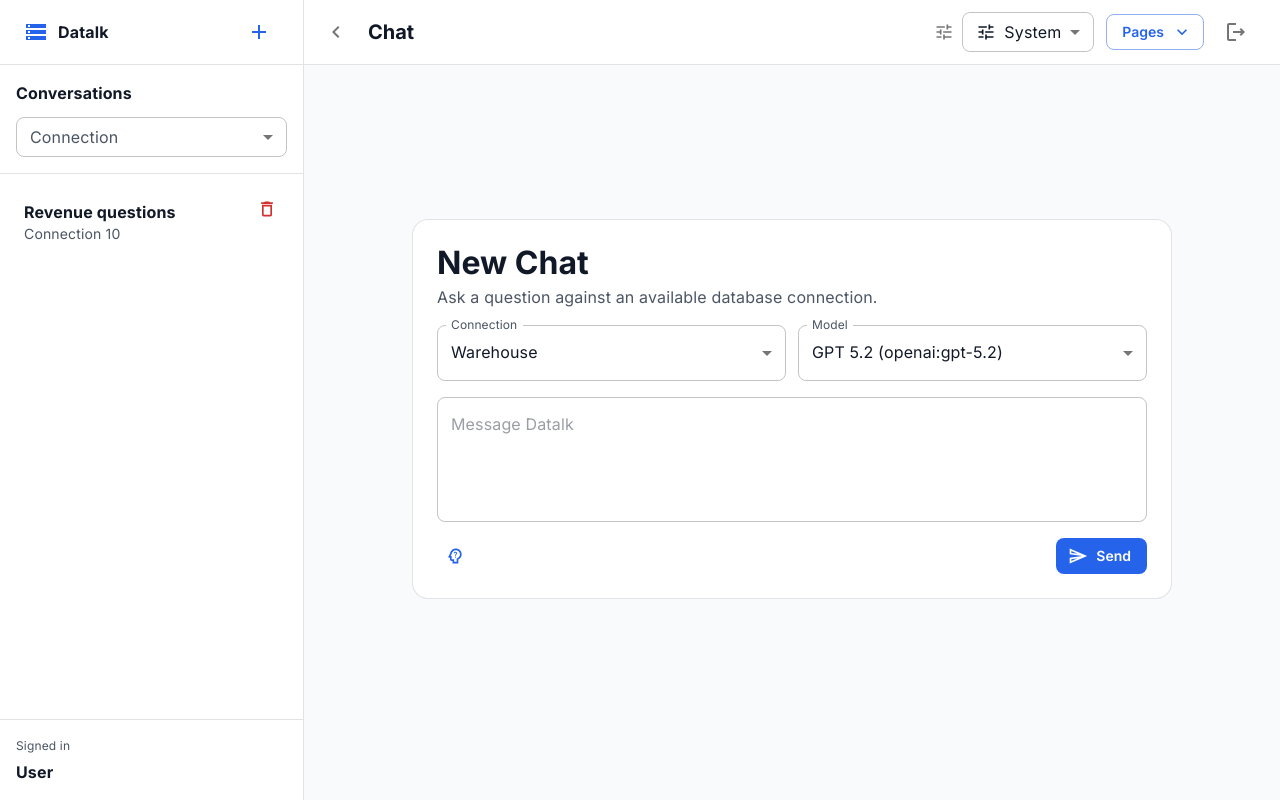
ChatPage › displays a natural response from the send response in chunks
Click the text "Revenue questions" at (100, 212), box [24,202,176,222]
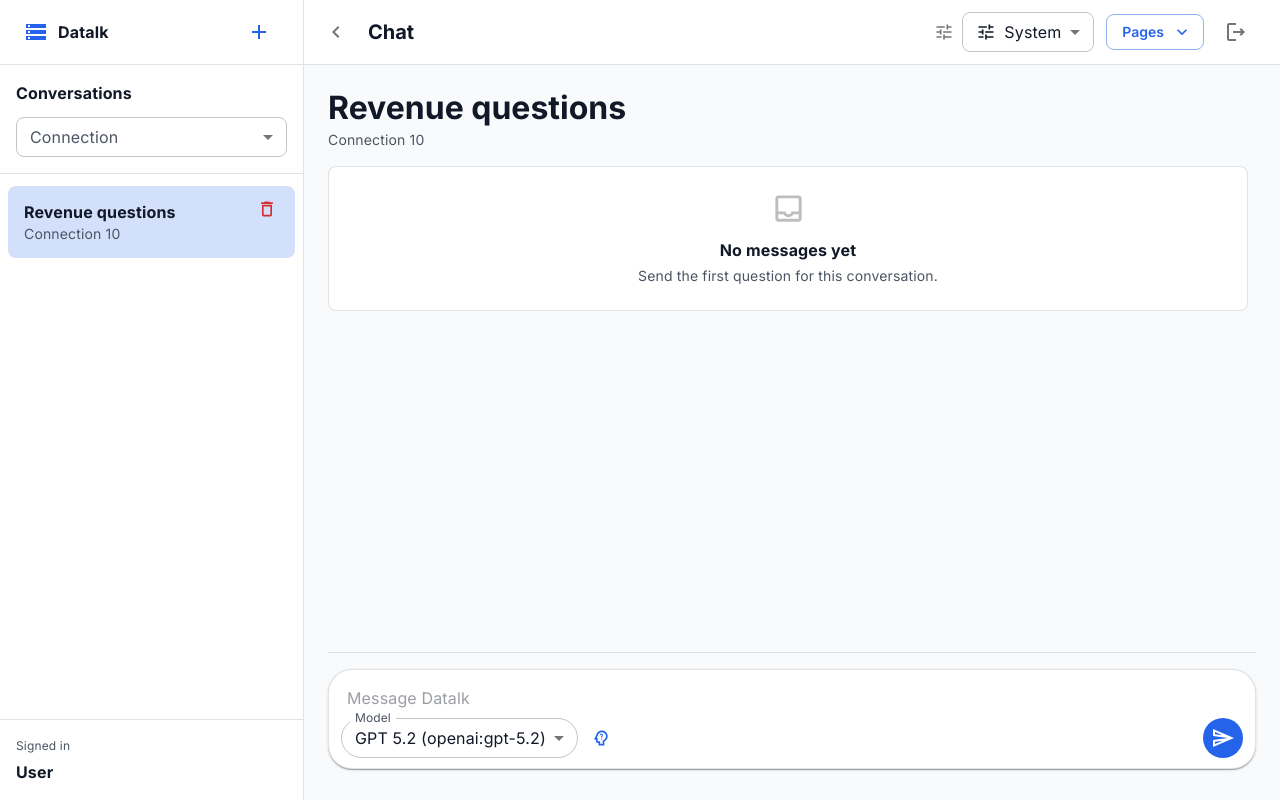
Type "How many users?" into the text box labelled "Message" at (792, 698), box [347,686,1237,710]
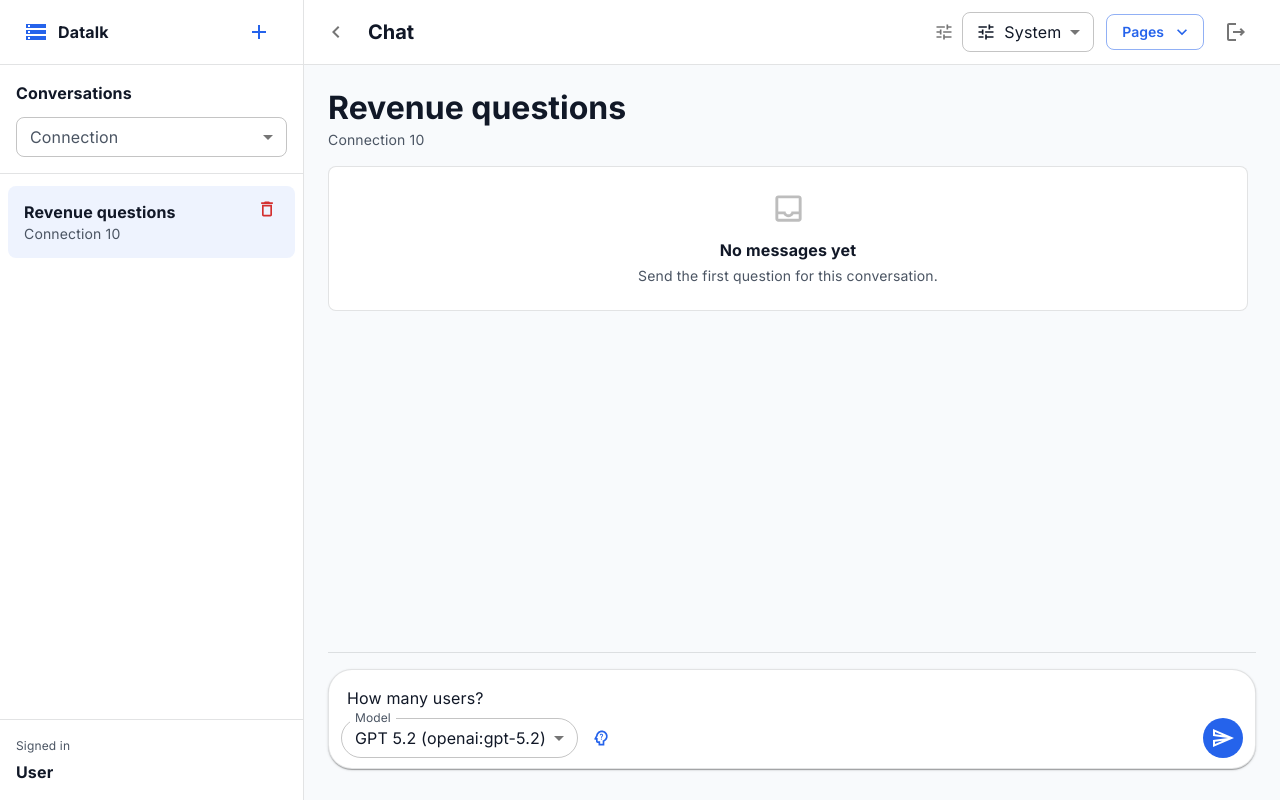
Click the button named "Send" at (1223, 738), box [1203,718,1243,758]
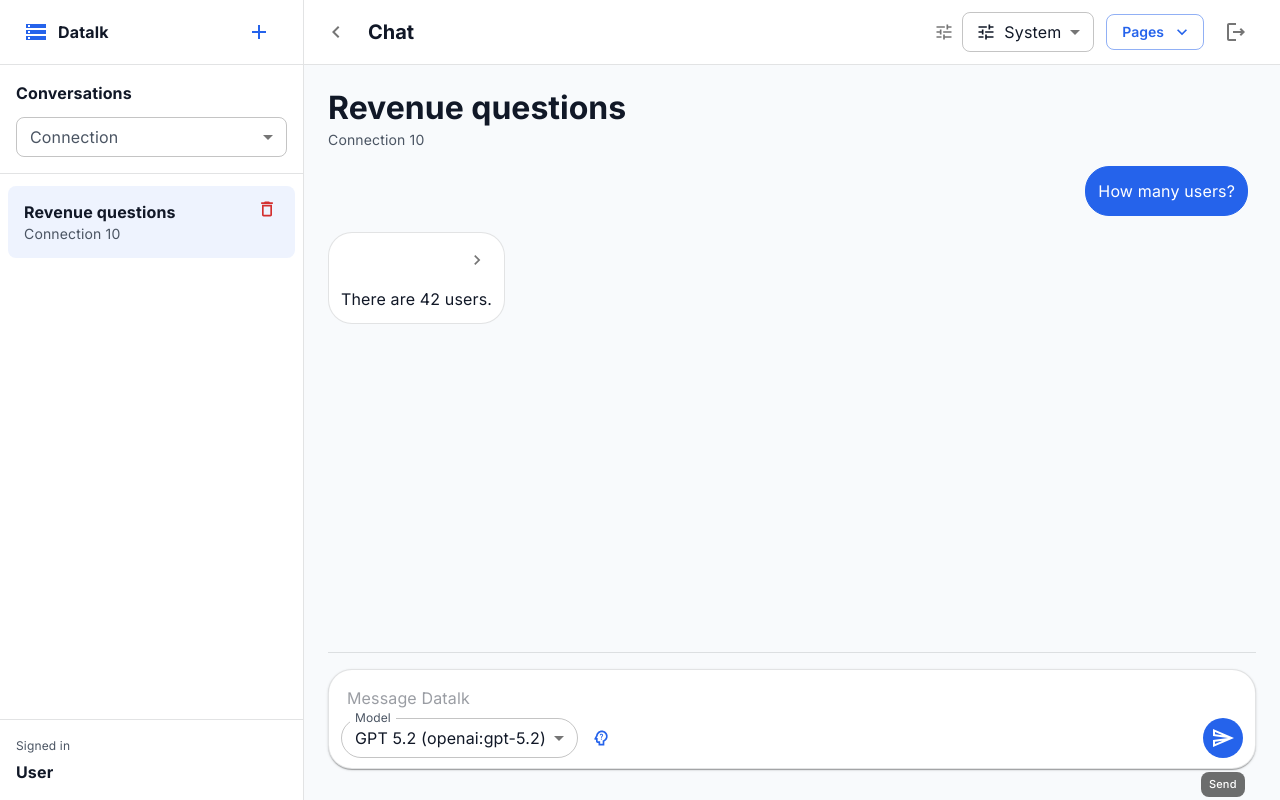
Now the text "There are 42 users." is shown, box [341,287,492,311]
